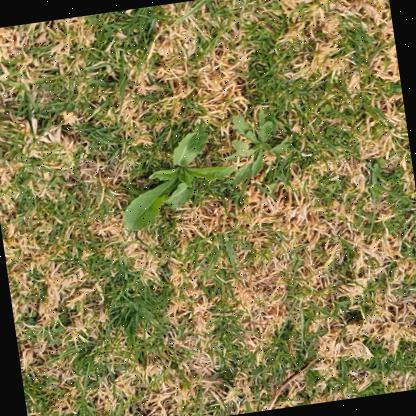Weeds: (108, 117, 244, 234), (223, 98, 301, 186)
